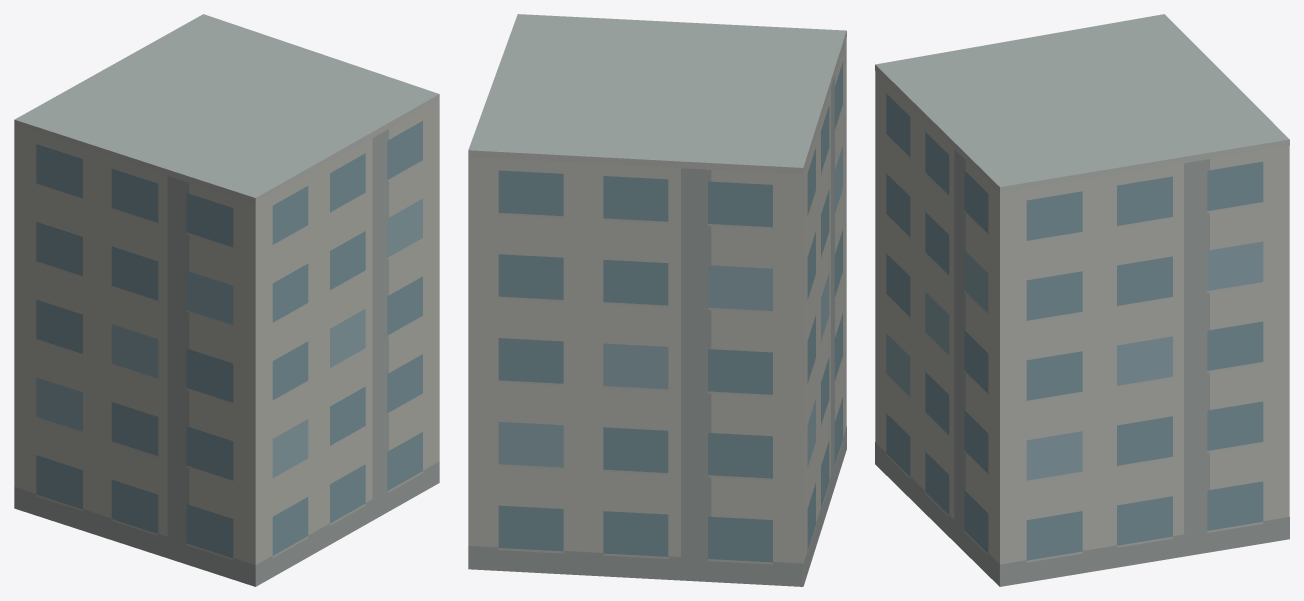
The model's file is survey-upis-32580589.glb.
3 views of the same model, side by side, from view 1: azimuth 30°, elevation 25°; view 2: azimuth 150°, elevation 25°; view 3: azimuth 270°, elevation 25° (orthographic). The views are drawn at different scales.
Parts seen in each view (by area): view 1: survey-upis-32580589.tmp; view 2: survey-upis-32580589.tmp; view 3: survey-upis-32580589.tmp.
Part boxes in pixels (box(x1,y1,x2,y2)): survey-upis-32580589.tmp: box(14, 14, 439, 586); survey-upis-32580589.tmp: box(468, 14, 846, 586); survey-upis-32580589.tmp: box(875, 14, 1289, 586).
Size of the model in its own units: 14.18 by 15.25 by 14.35.
